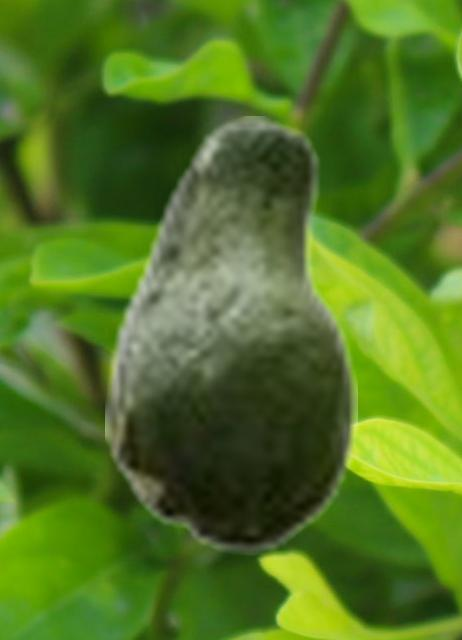sayote: (105, 116, 356, 555)
